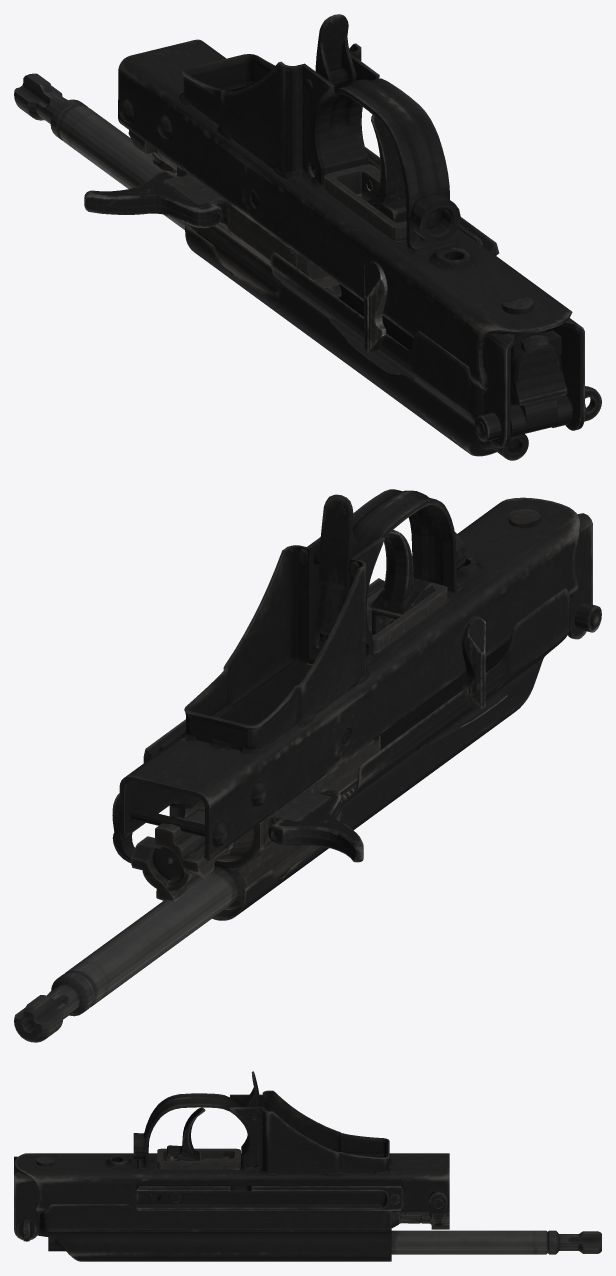
3 renders of one model, top to bottom at view 1: azimuth 30°, elevation 25°; view 2: azimuth 150°, elevation 25°; view 3: azimuth 270°, elevation 25°, orthographic. The views are drawn at different scales.
Parts seen in each view (by area): view 1: TW_644674a13d52156624001fbc_PZ_Import; view 2: TW_644674a13d52156624001fbc_PZ_Import; view 3: TW_644674a13d52156624001fbc_PZ_Import.
Boxes of the visible parts, left/top/right/bottom form: TW_644674a13d52156624001fbc_PZ_Import: left=14, top=14, right=601, bottom=460; TW_644674a13d52156624001fbc_PZ_Import: left=14, top=489, right=601, bottom=1042; TW_644674a13d52156624001fbc_PZ_Import: left=14, top=1071, right=601, bottom=1261.
Size of the model in its own units: 0.0395 by 0.1747 by 0.0615.
Materials: 1 (1 with a texture image).
